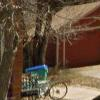Bicycle: (28, 73, 72, 100)
